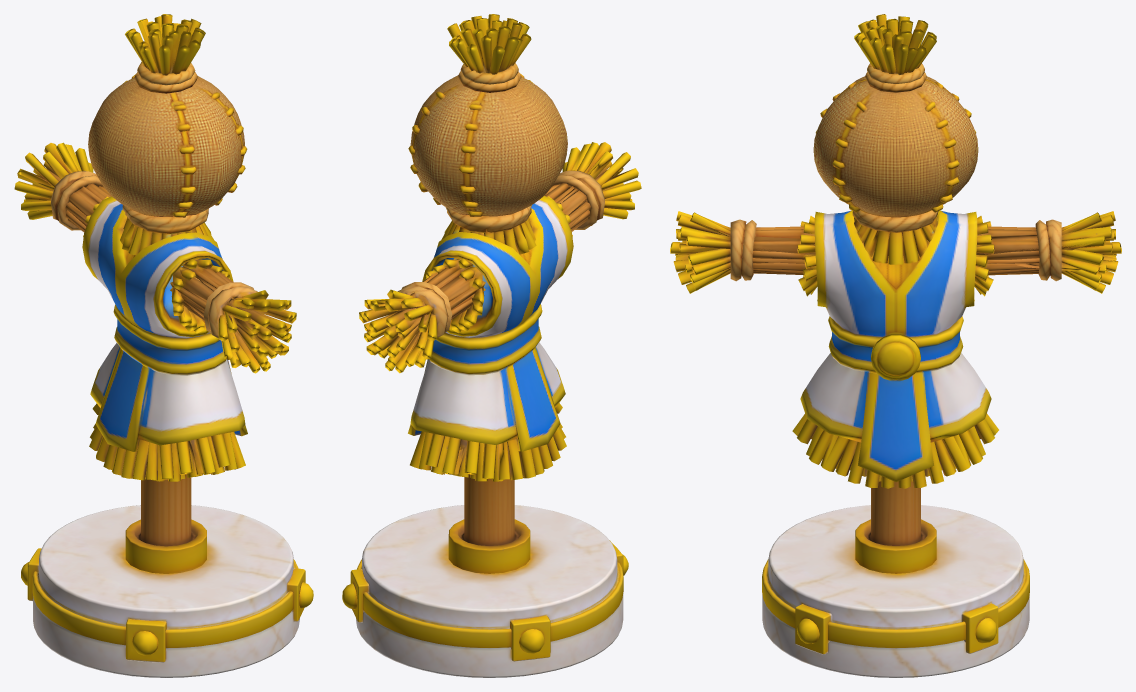
Rendered from HaloReasonHQ_Scarecrow_SM_tex4k_pbr_src.fbx.
The picture shows the model from 3 angles, left to right: view 1: azimuth 30°, elevation 25°; view 2: azimuth 150°, elevation 25°; view 3: azimuth 270°, elevation 25°; orthographic projection.
Parts seen in each view (by area): view 1: dfce509e_4ae8_49f6_9b53_81a2421a134a; view 2: dfce509e_4ae8_49f6_9b53_81a2421a134a; view 3: dfce509e_4ae8_49f6_9b53_81a2421a134a.
Boxes of the visible parts, <box> form: dfce509e_4ae8_49f6_9b53_81a2421a134a: <box>14,14,313,677</box>; dfce509e_4ae8_49f6_9b53_81a2421a134a: <box>342,14,641,677</box>; dfce509e_4ae8_49f6_9b53_81a2421a134a: <box>670,14,1121,677</box>.
Bounding box in the file's own units: 0.4058 × 0.9995 × 0.6841.
Materials: 1 (1 with a texture image).
